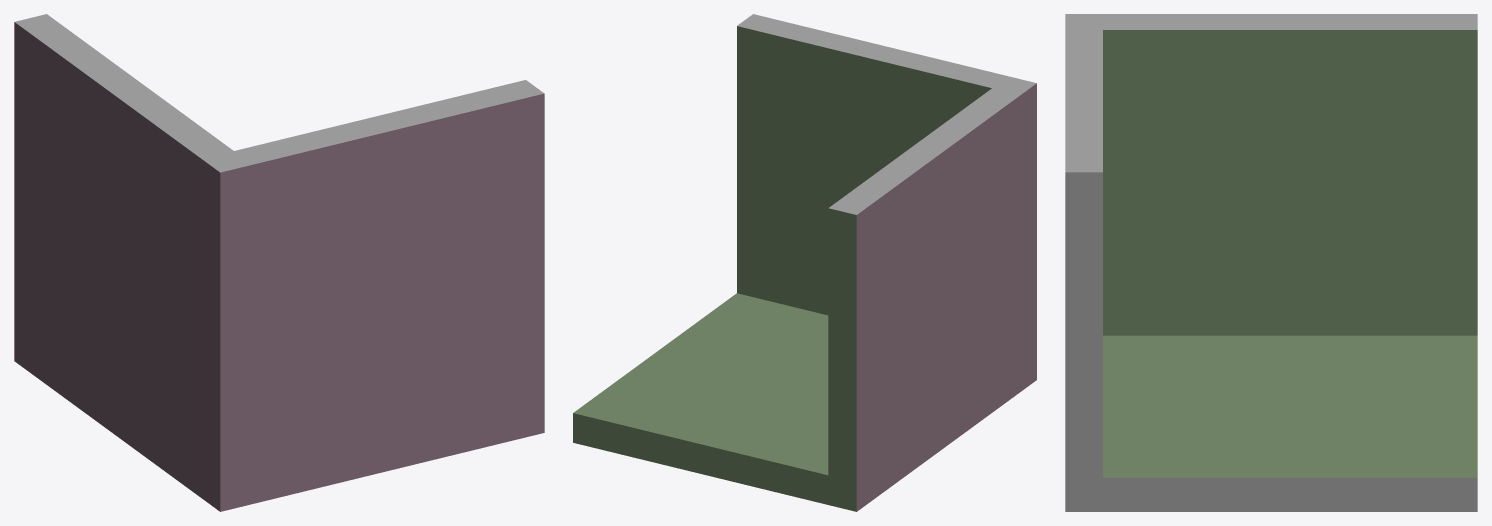
Rendered from curlingoverhang100M_3side6.fbx.
The picture shows the model from 3 angles, left to right: view 1: azimuth 30°, elevation 25°; view 2: azimuth 150°, elevation 25°; view 3: azimuth 270°, elevation 25°; orthographic projection. The views are drawn at different scales.
Visible parts, largest first — view 1: overhang100M_3side6; view 2: overhang100M_3side6; view 3: overhang100M_3side6.
Part boxes in pixels (x1=…): overhang100M_3side6: x1=14, y1=14, x2=544, y2=511; overhang100M_3side6: x1=573, y1=14, x2=1036, y2=511; overhang100M_3side6: x1=1065, y1=14, x2=1477, y2=511.
Bounding box in the file's own units: 100 × 100 × 110.
